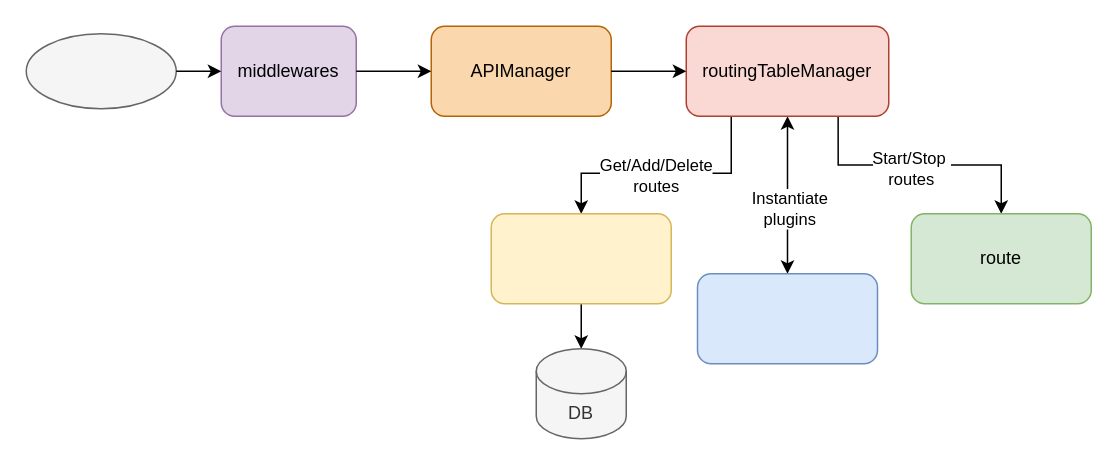
Some shapes in this 1118 by 465 pixel diagram are drawn without their labels. Here are the shapes that lost their labels. From the top down, the centre of each, then its label:
At (x=100, y=70): "route API request".
At (x=580, y=258): "storageManager".
At (x=787, y=318): "pluginManager".
